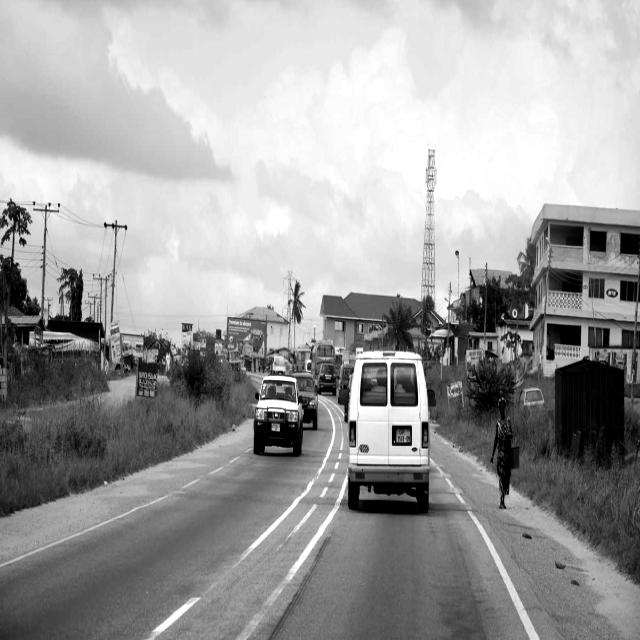cleat: (85, 314, 519, 640)
